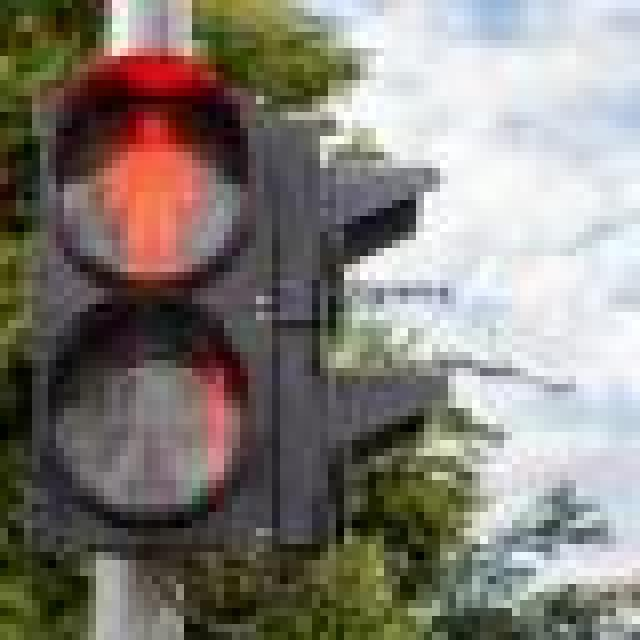redlight: (8, 22, 264, 302)
